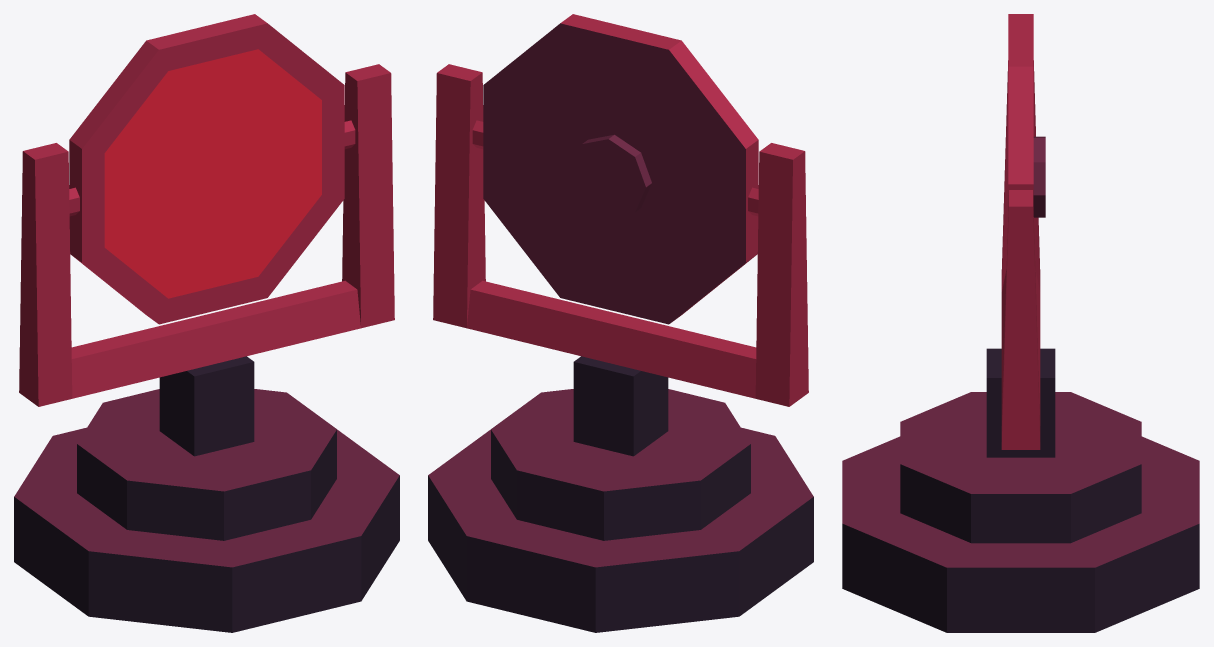
Rendered from mirror.glb.
The picture shows the model from 3 angles, left to right: view 1: azimuth 30°, elevation 25°; view 2: azimuth 150°, elevation 25°; view 3: azimuth 270°, elevation 25°; orthographic projection.
Visible parts, largest first — view 1: SunMirror; view 2: SunMirror; view 3: SunMirror.
Part boxes in pixels (box(x1,y1,x2,y2)): SunMirror: box(14, 14, 399, 632); SunMirror: box(428, 14, 813, 632); SunMirror: box(842, 14, 1199, 632).
Bounding box in the file's own units: 0.95 × 1.32 × 0.83.
